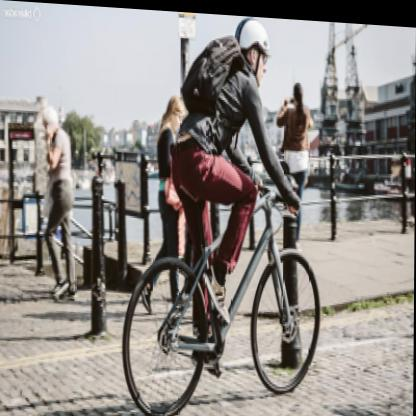With Helmet: (234, 12, 275, 84)
